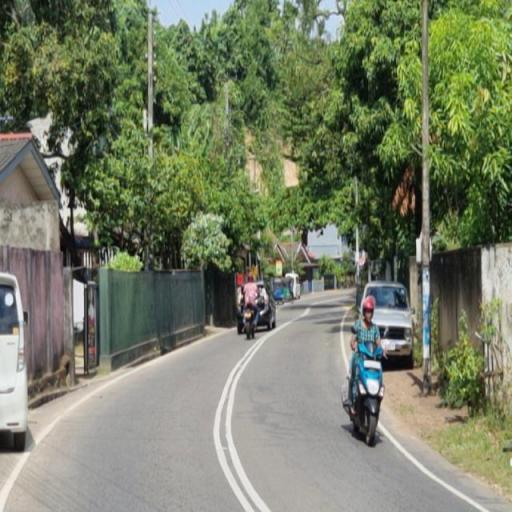double_white_line: (214, 281, 272, 512)
